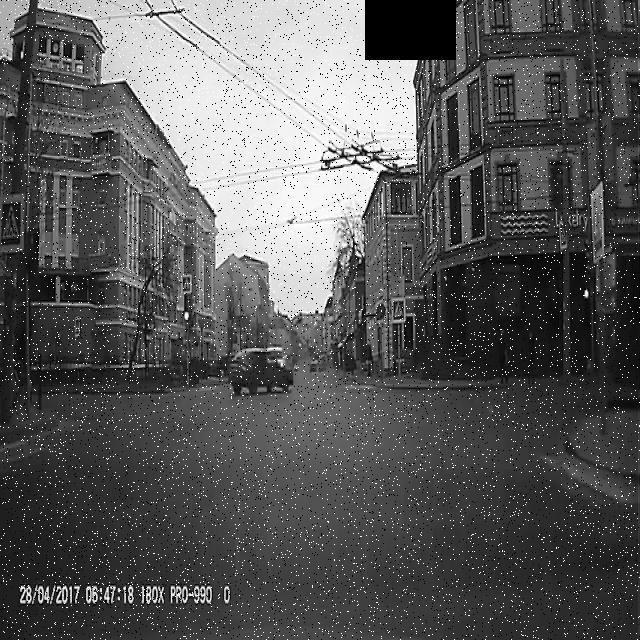vehicle: (204, 308, 303, 416)
